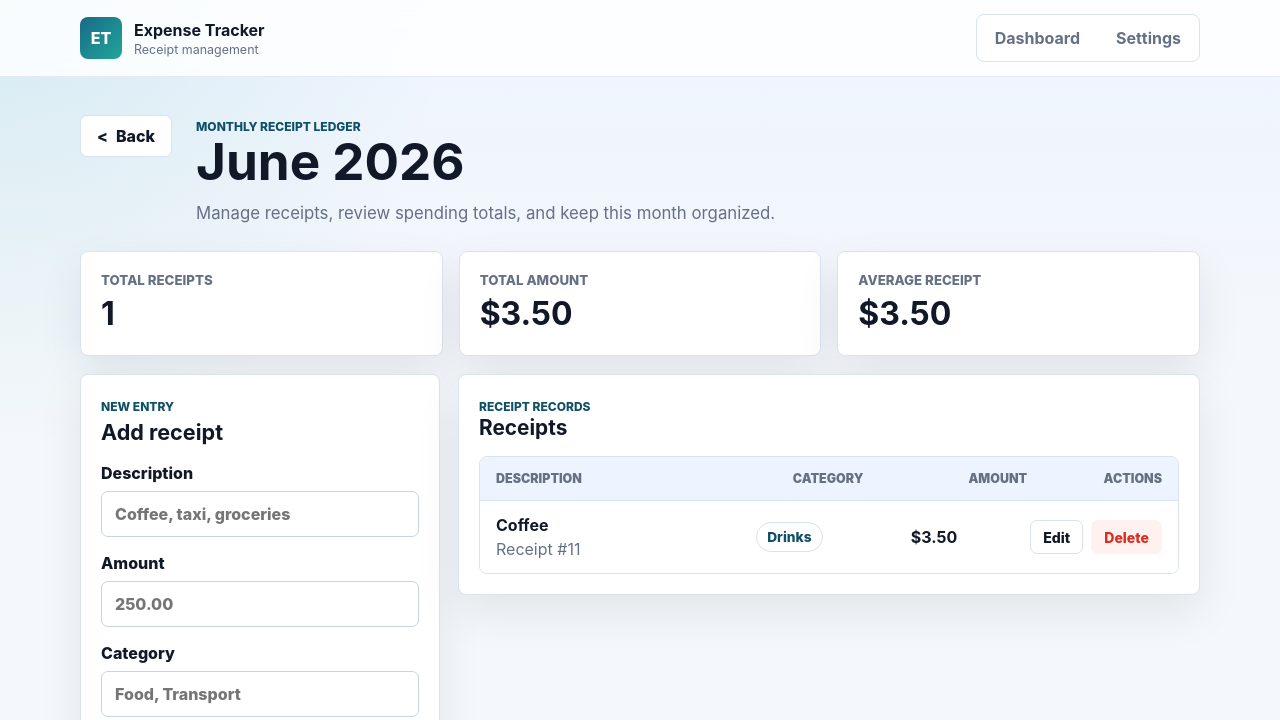
Test: Editing receipt amount updates UI via mocked API
Expected: the text "Coffee Receipt #11 Drinks $3.50 Edit Delete" is shown, [480, 500, 1178, 573]
Click the button "Edit": (1057, 537) [1030, 520, 1083, 554]
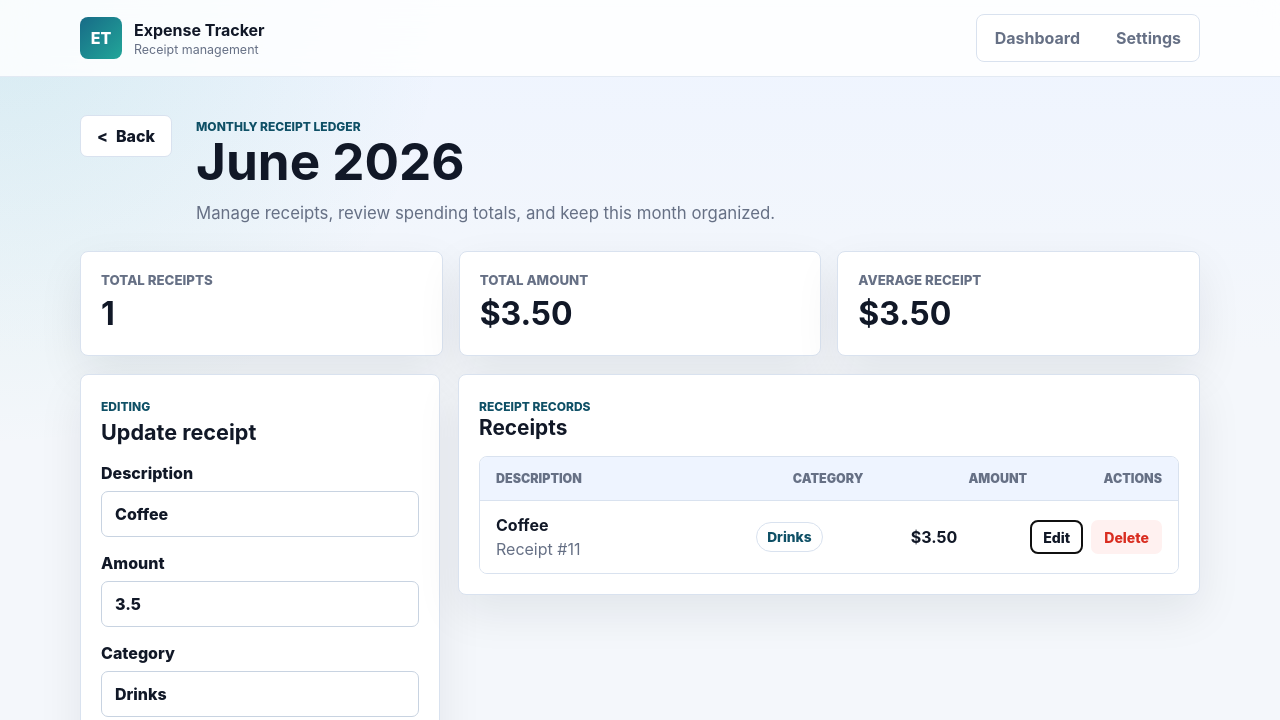
Replace the text in the number field labelled "Amount" with "5.5": (260, 604) [101, 581, 419, 627]
(page scrolled)
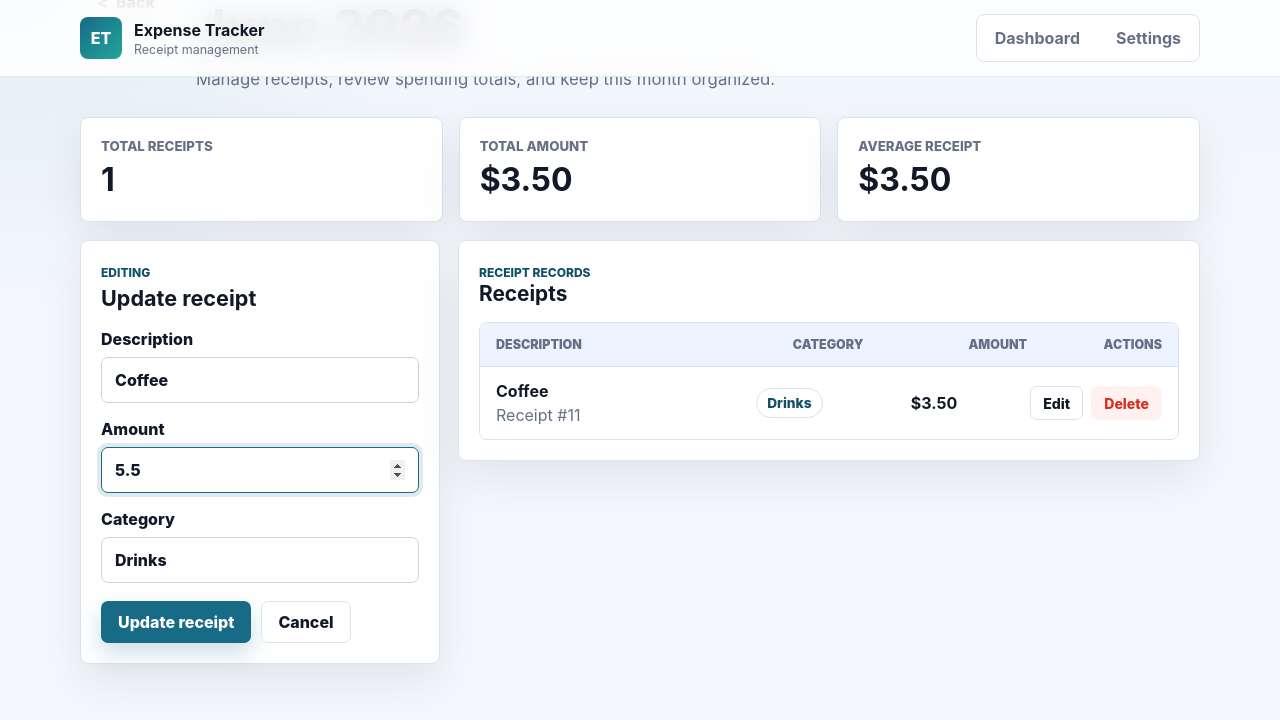
Click the button "Update receipt": (176, 622) [101, 601, 251, 643]
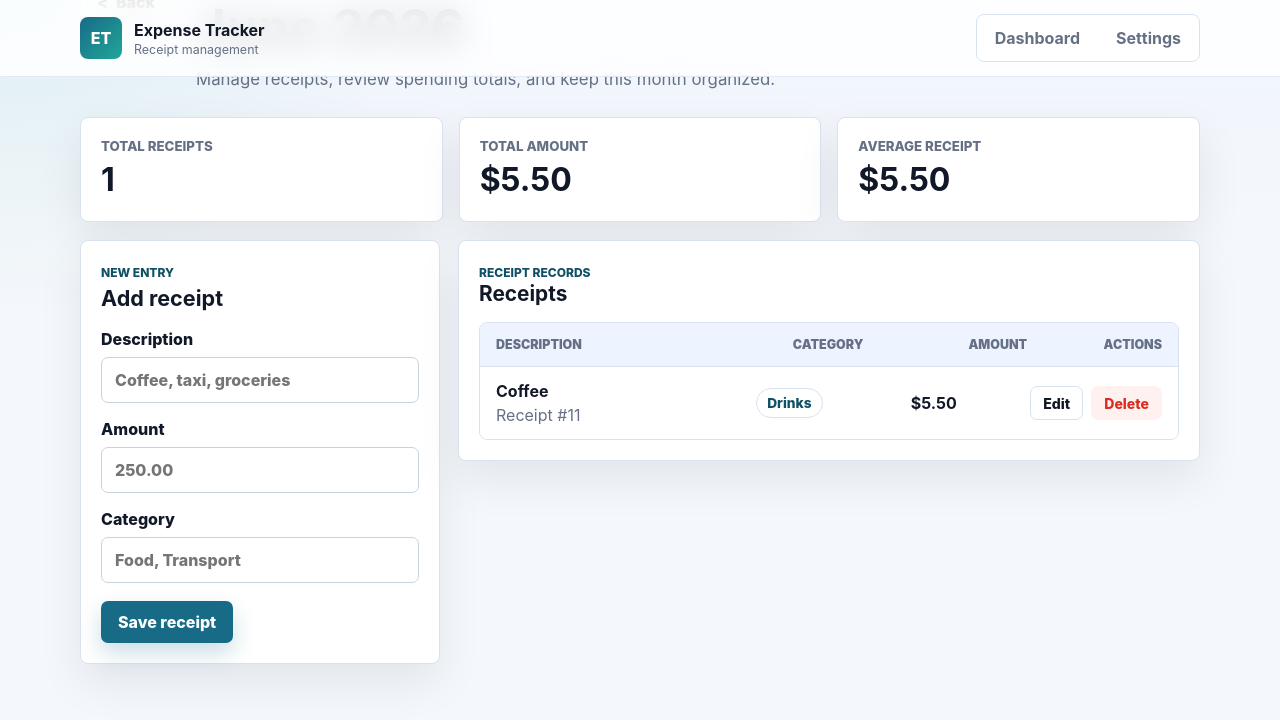
Expected: the text "$5.50" next to "Drinks" is shown, [911, 393, 957, 413]
